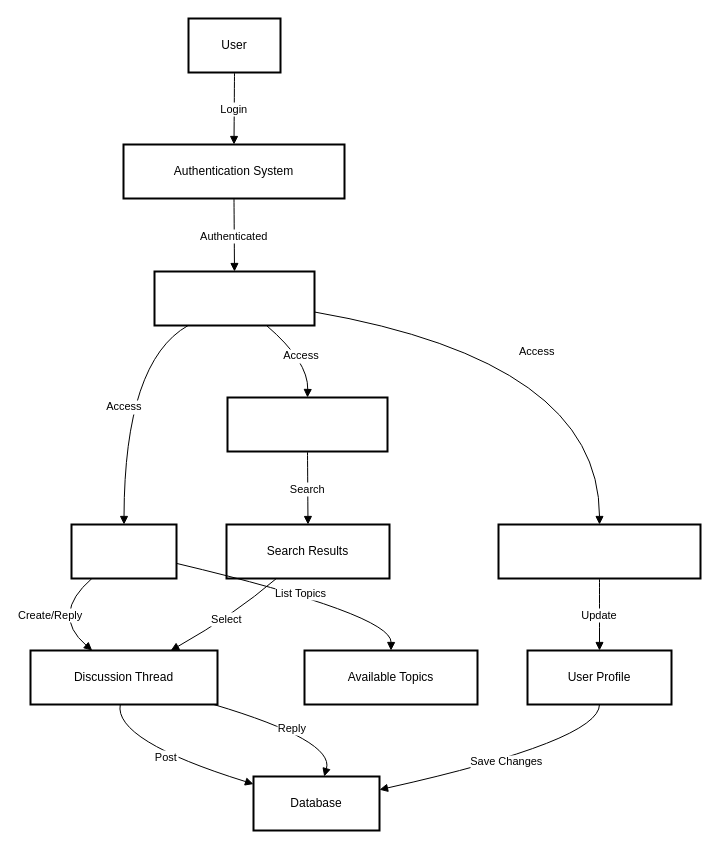
Some shapes in this 718 by 848 pixel diagram are drawn without their labels. The shapes that lost their labels are listed below. From the top down, each one's centre as x and y in pixels, then its label:
At pixel 234 298: "Main Platform".
At pixel 307 424: "Search Option".
At pixel 123 551: "Forum".
At pixel 599 551: "Profile Management".
